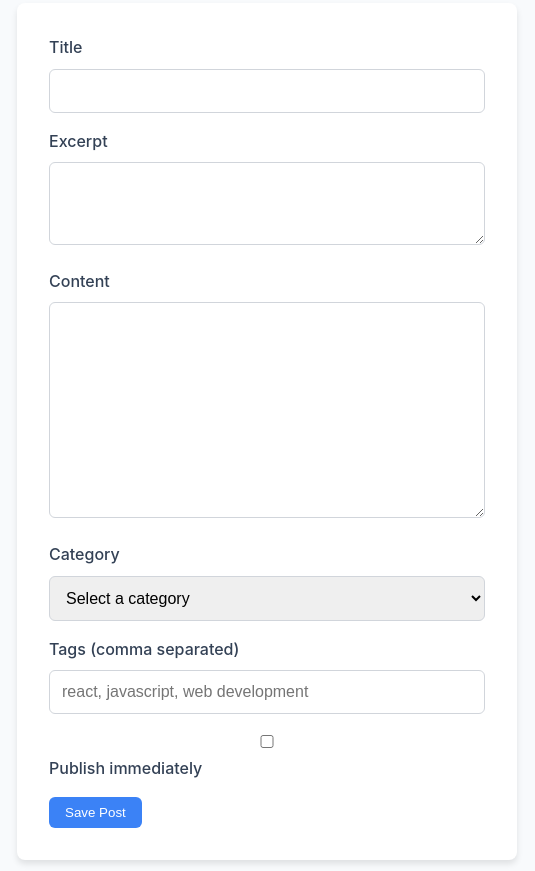
PostForm Integration Tests › should show validation errors for required fields
Note: Try to submit without filling required fields
Click the button "Save Post" at coordinates (95, 813), box [49,797,142,828]
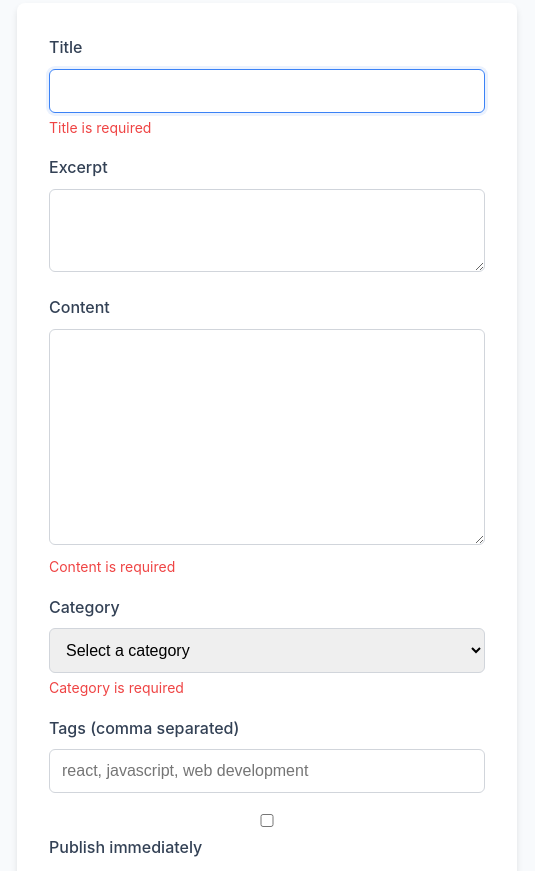
Expected: the text "Title is required" is shown, [49,119,151,136]
Expected: the text "Content is required" is shown, [49,558,175,575]
Expected: the text "Category is required" is shown, [49,679,184,696]
